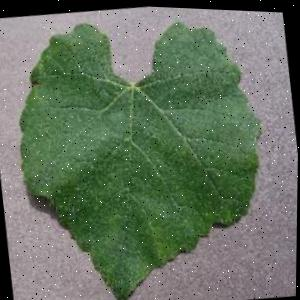Folha: (2, 0, 284, 300)
